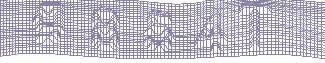4: (194, 13, 228, 55)
5: (142, 9, 176, 53)
8: (89, 5, 122, 53)
T: (235, 2, 272, 52)
g: (30, 1, 66, 46)
